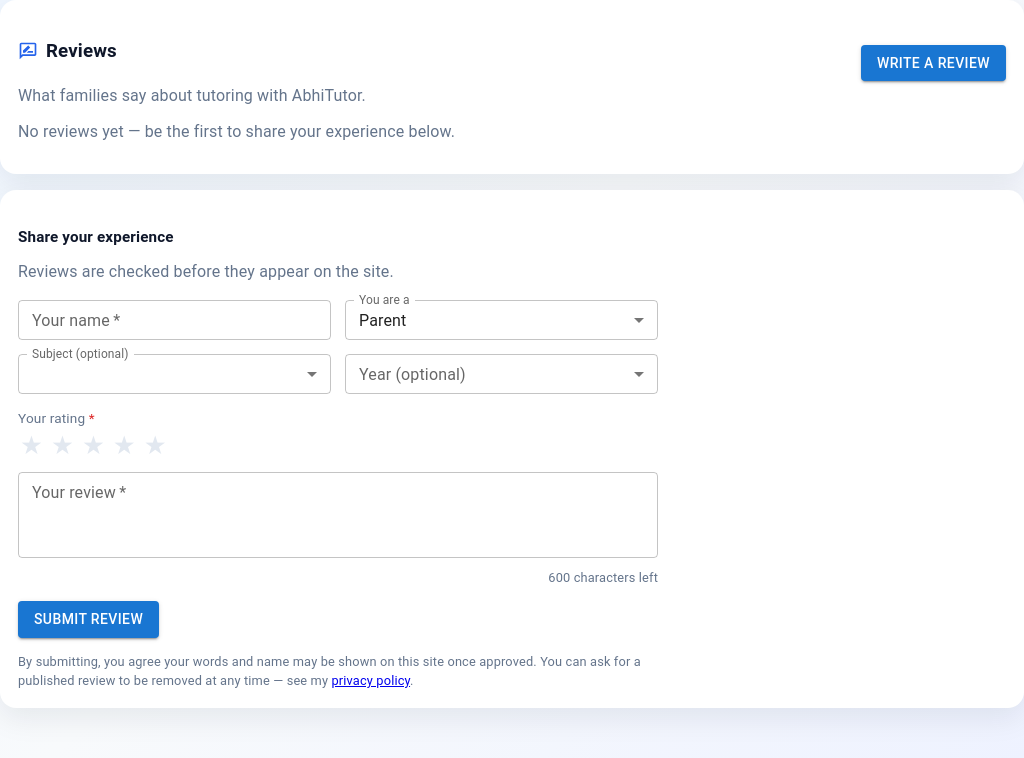
ReviewsView › blocks submitting with a name but no words
This screenshot has width=1024, height=758.
In the field labelled "Your name *": (174, 320) [18,300,331,340], type "Jo"
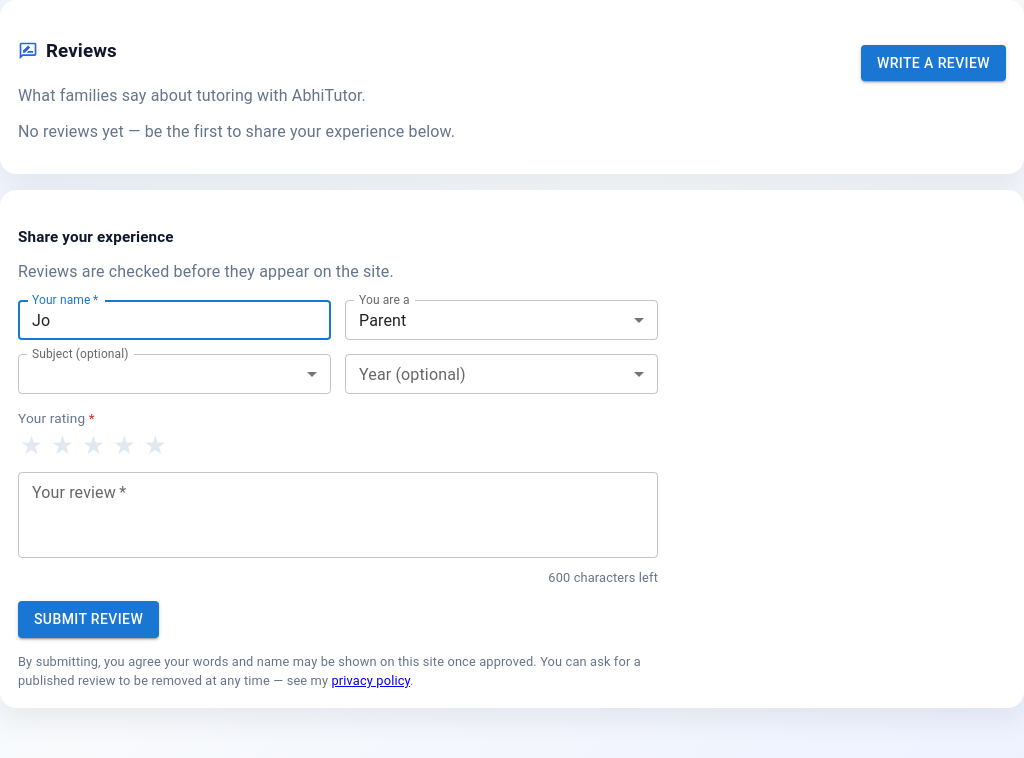
Click the button "Submit review": (89, 620) [18,602,159,638]
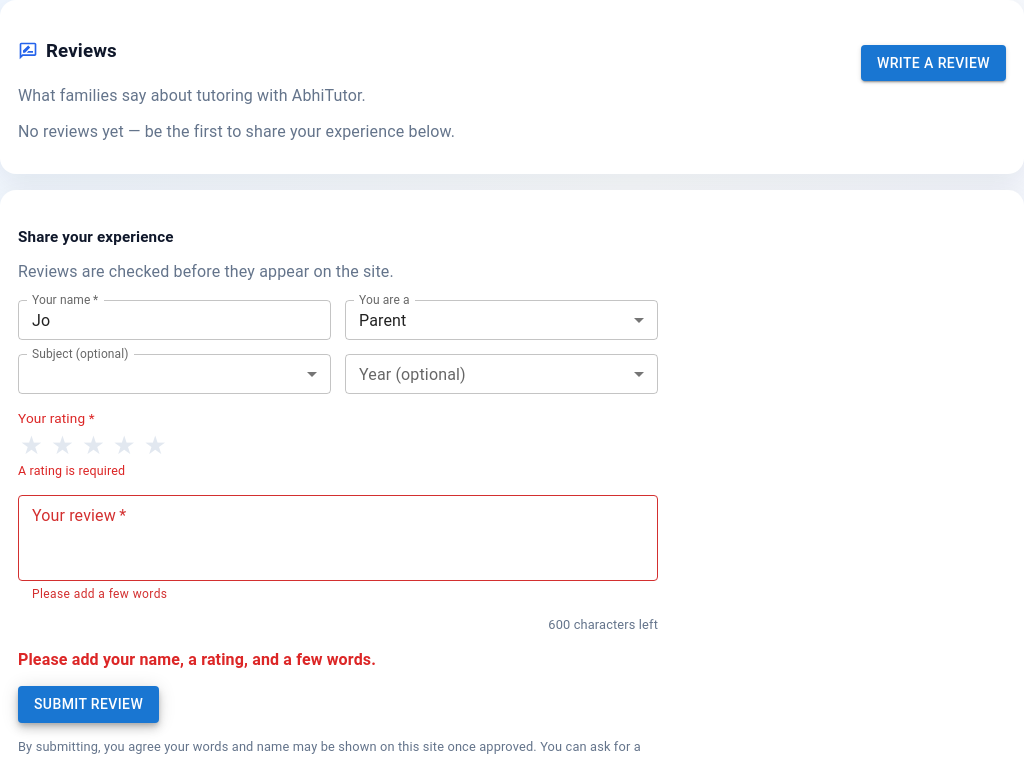
Expected: the message "Please add your name, a rating, and a few words." is shown, [18,650,376,669]
